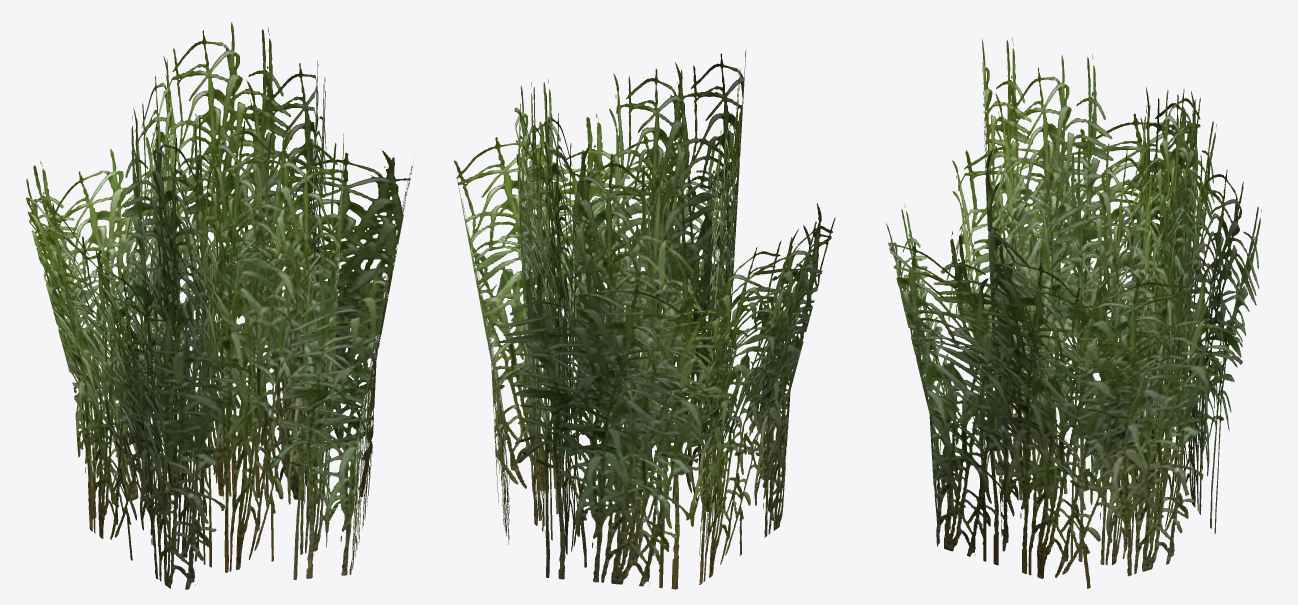
Rendered from Model_Plant_02.fbx.
3 renders of one model, left to right at view 1: azimuth 30°, elevation 25°; view 2: azimuth 150°, elevation 25°; view 3: azimuth 270°, elevation 25°, orthographic. The views are drawn at different scales.
Parts seen in each view (by area): view 1: Arundo_Donax; view 2: Arundo_Donax; view 3: Arundo_Donax.
Boxes of the visible parts, bbox=[...] form: Arundo_Donax: bbox=[26, 22, 412, 589]; Arundo_Donax: bbox=[454, 50, 835, 589]; Arundo_Donax: bbox=[886, 37, 1261, 588].
Bounding box in the file's own units: 103 × 135 × 108.
